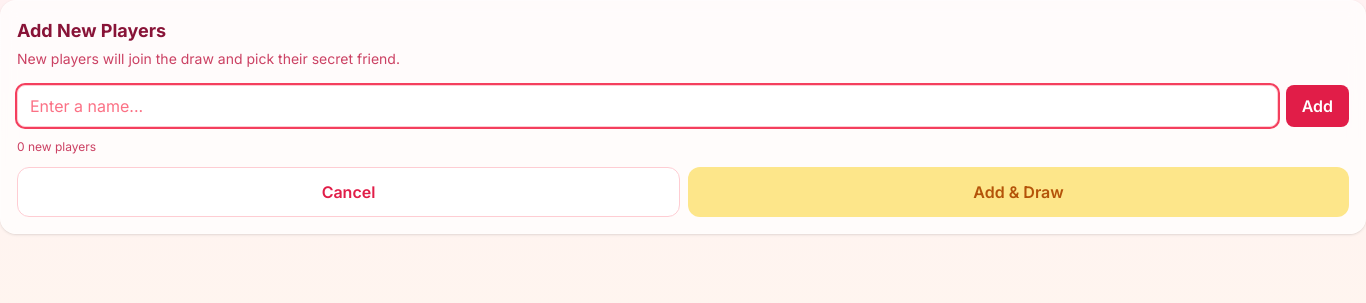
Test case: AddPlayersForm › can remove an added player
Step 1. Type "Carol" into the field labelled "Enter a name..." → (647, 106), box [17,85,1278,127]
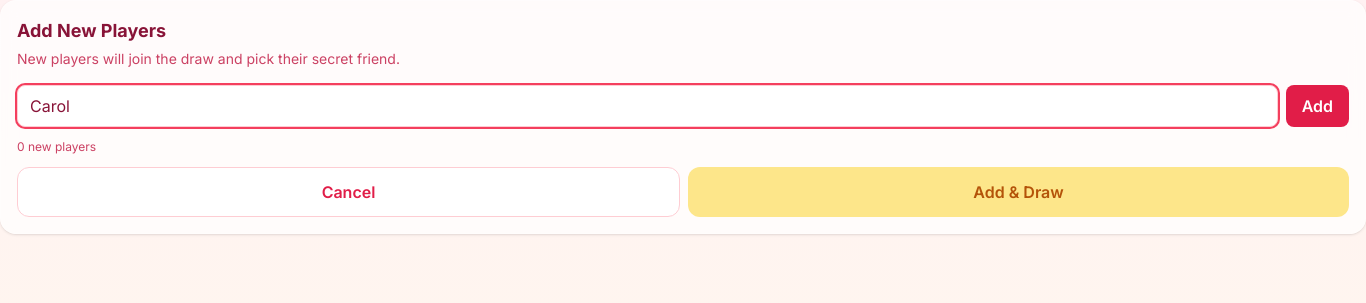
Step 2. Click the button "Add" → click(1317, 106), box [1286,85,1349,127]
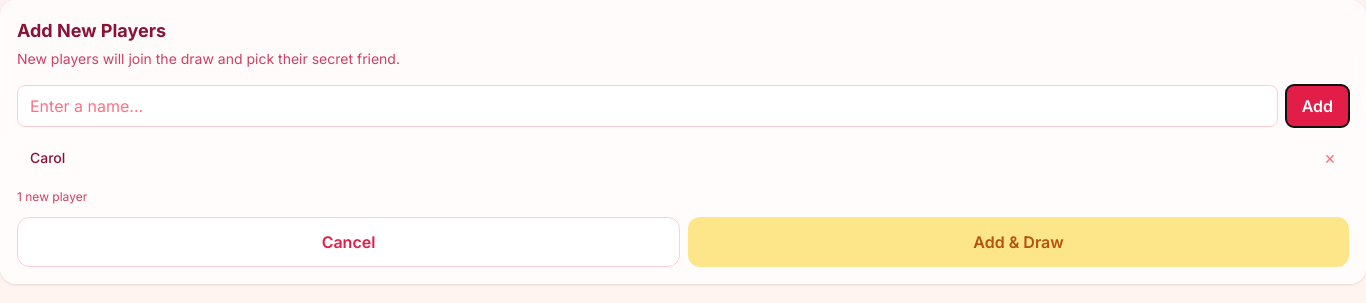
Expected: the text "Carol" is shown, [30,148,65,168]
Step 3. Click the button named "Remove Carol" → click(1330, 158), box [1324,149,1336,167]
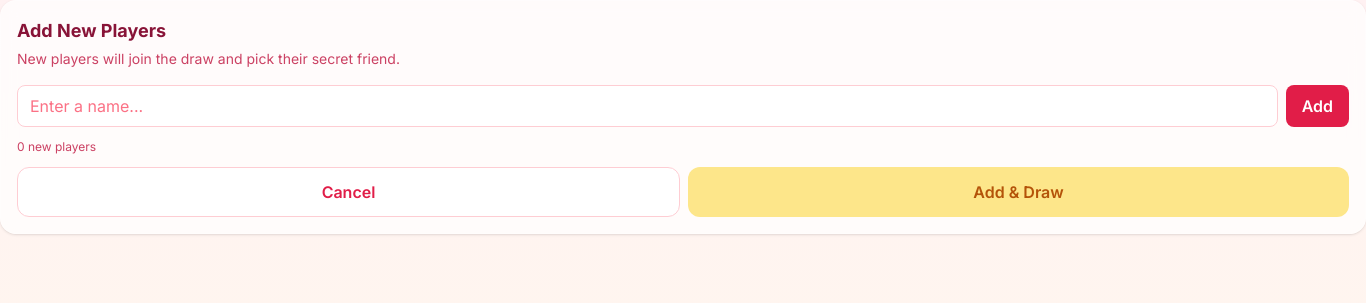
Expected: the text "Carol" is gone
